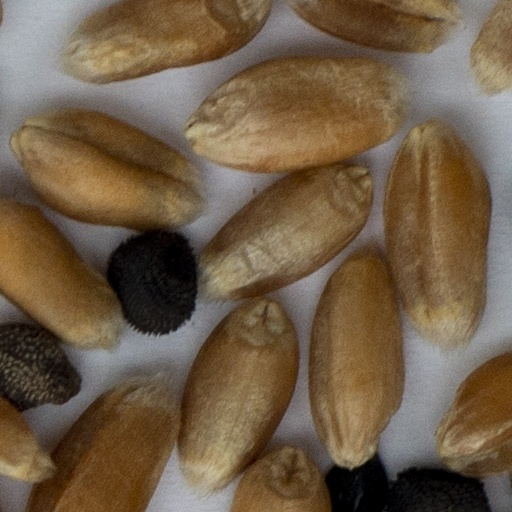Agrostemma-poly: (109, 232, 196, 334), (387, 471, 489, 511)
Convolvulus-poly: (0, 325, 78, 408)
Fallopia-Convolvulus-poly: (326, 459, 387, 511)
